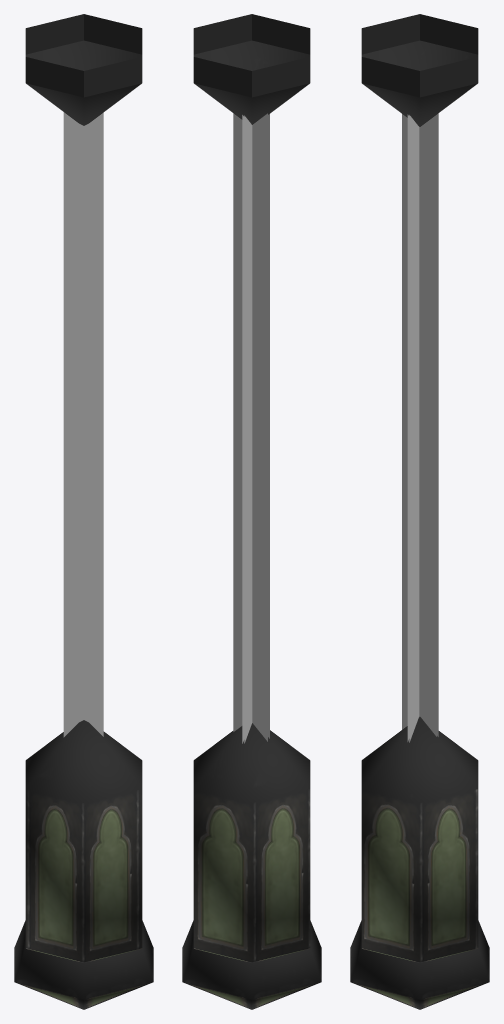
The model's file is light day.FBX.
The picture shows the model from 3 angles, left to right: view 1: azimuth 90°, elevation 25°; view 2: azimuth 150°, elevation 25°; view 3: azimuth 330°, elevation 25°; orthographic projection.
Visible parts, largest first — view 1: Cylinder002, Plane060; view 2: Cylinder002, Plane060; view 3: Cylinder002, Plane060.
Boxes of the visible parts, x1,y1,x2,y2 form: Cylinder002: (14, 14, 153, 1009); Plane060: (63, 112, 103, 737); Cylinder002: (182, 14, 321, 1009); Plane060: (233, 113, 269, 743); Cylinder002: (350, 14, 489, 1009); Plane060: (402, 113, 438, 742).
Bounding box in the file's own units: 92.8 × 615 × 80.37.
